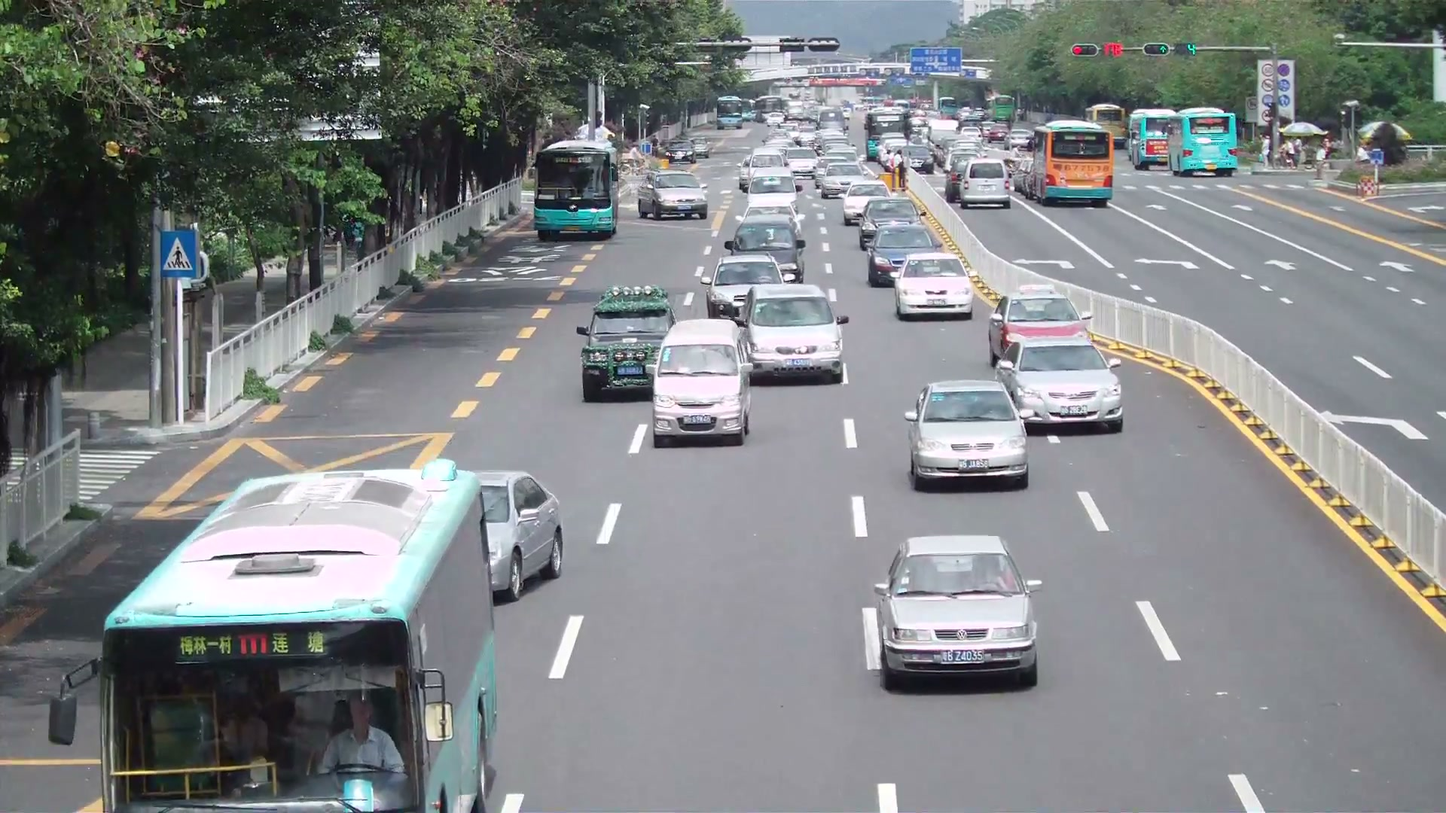bus: (91, 457, 500, 810), (532, 138, 619, 240), (1039, 118, 1116, 206), (1173, 107, 1238, 175), (1127, 108, 1180, 170)
car: (865, 534, 1043, 693), (902, 377, 1030, 492), (650, 317, 755, 446), (471, 469, 566, 603), (998, 336, 1125, 435), (738, 281, 848, 383), (986, 285, 1096, 369), (892, 251, 975, 321), (864, 222, 948, 288), (706, 252, 786, 318), (730, 215, 804, 281), (640, 171, 708, 220), (840, 179, 893, 223)
pedestrian: (315, 692, 406, 779)
truck: (578, 283, 675, 401), (1174, 107, 1239, 175)
